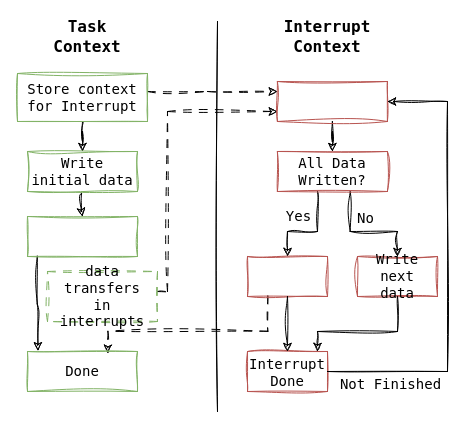
This 473x430 diagram has some shape labels left out. Each missing label, with the box of its shape:
Interrupt fires: (276, 80, 387, 122)
Notify Task: (246, 256, 328, 296)
Yield to OS: (26, 216, 138, 256)
